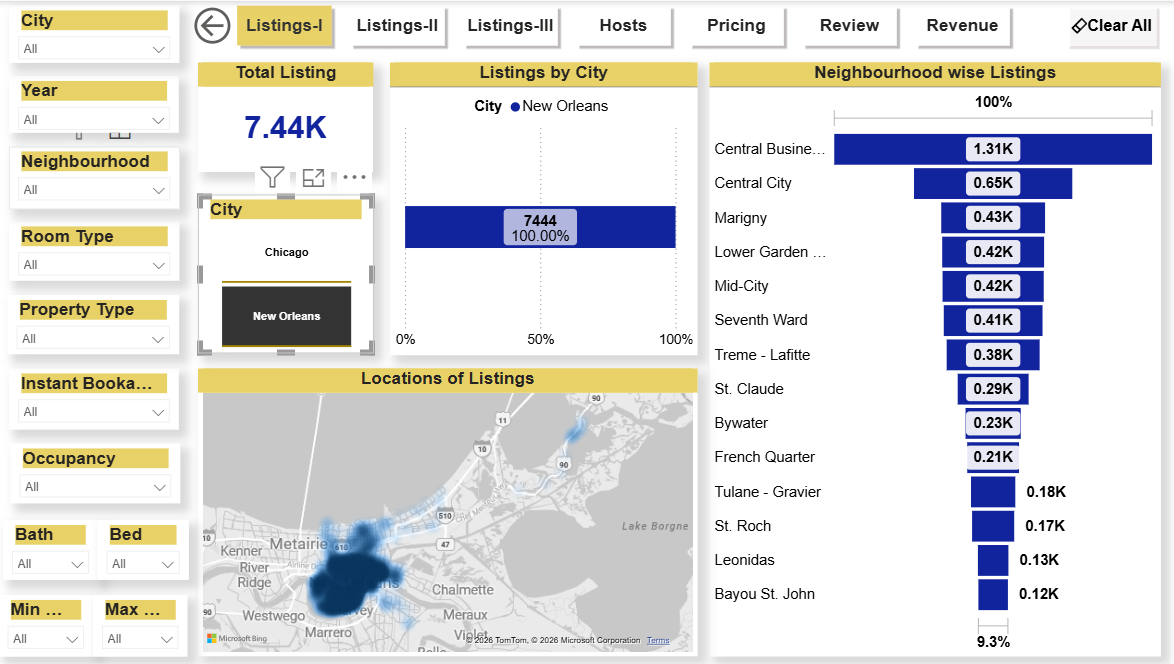

The page's visual inventory and layout, read from the dashboard file:
{"tool":"powerbi","page":{"name":"Listings-I","canvas":[1280,720],"ordinal":0},"visuals":[{"type":"slicer","fields":{"Values":["airbnb_listings.room_type1"]},"box":[16.5,238.8,184,63.8],"z":0},{"type":"slicer","fields":{"Values":["airbnb_listings.neighbourhood_cleansed1"]},"box":[16,157.4,184,67],"z":1000},{"type":"slicer","fields":{"Values":["airbnb_listings.instant_bookable1"]},"box":[16,396.3,183.5,66],"z":2000},{"type":"hundredPercentStackedBarChart","title":"Listings by City","fields":{"Series":["airbnb_listings.City"],"Y":["Count(airbnb_listings.listing_url)"]},"box":[427.5,66.4,331.9,315.7],"z":3000},{"type":"actionButton","box":[210.1,0,50.5,53.2],"z":4000},{"type":"actionButton","box":[1152.9,0,106.9,53.4],"z":5000},{"type":"pageNavigator","box":[256.9,0,850,53.2],"z":6000},{"type":"cardVisual","title":"Total Listing","fields":{"Data":["Count(airbnb_listings.listing_url)"]},"box":[220.2,66.4,189.4,118.2],"z":7000},{"type":"slicer","fields":{"Values":["airbnb_listings.property_type1"]},"box":[14.9,318.1,185.1,63.8],"z":8000},{"type":"slicer","fields":{"Values":["airbnb_listings.accommodates1"]},"box":[17,477.7,183.5,64.4],"z":9000},{"type":"slicer","fields":{"Values":["airbnb_listings.City"]},"box":[220.2,208.9,189.4,171.6],"z":10000},{"type":"funnel","title":"Neighbourhood wise Listings","fields":{"Category":["airbnb_listings.neighbourhood_cleansed"],"Y":["Count(airbnb_listings.listing_url)"]},"box":[772.4,66.4,487.4,641.2],"z":11000},{"type":"map","title":"Locations of Listings","fields":{"Size":["Sum(airbnb_listings.estimated_revenue_l365d)"],"Y":["airbnb_listings.latitude"],"X":["airbnb_listings.longitude"]},"box":[220.2,396.7,539.2,310.9],"z":12000},{"type":"slicer","fields":{"Values":["airbnb_listings.bathrooms"]},"box":[9,560.6,102.7,64.9],"z":13000},{"type":"slicer","fields":{"Values":["airbnb_listings.bedrooms"]},"box":[111.7,560.6,98.4,64.9],"z":14000},{"type":"slicer","fields":{"Values":["airbnb_listings.minimum_nights"]},"box":[5.3,640.4,102.1,66.5],"z":15000},{"type":"slicer","fields":{"Values":["airbnb_listings.maximum_nights"]},"box":[107.4,640.4,102.1,66.5],"z":16000},{"type":"slicer","fields":{"Values":["airbnb_listings.host_year"]},"box":[16.5,81.4,183.5,61.2],"z":17000},{"type":"slicer","fields":{"Values":["airbnb_listings.City"]},"box":[16.5,4.8,184,61.7],"z":18000}]}

Visuals, with their boxes in screenshot pixels (x1, y1, x2, y2), scaled from the page's 1280x720 canvas onto the 1174x664 screenshot:
slicer - airbnb_listings.room_type1: BBox(15, 220, 184, 279)
slicer - airbnb_listings.neighbourhood_cleansed1: BBox(15, 145, 183, 207)
slicer - airbnb_listings.instant_bookable1: BBox(15, 365, 183, 426)
"Listings by City" hundredPercentStackedBarChart: BBox(392, 61, 697, 352)
actionButton: BBox(193, 0, 239, 49)
actionButton: BBox(1057, 0, 1155, 49)
pageNavigator: BBox(236, 0, 1015, 49)
"Total Listing" cardVisual: BBox(202, 61, 376, 170)
slicer - airbnb_listings.property_type1: BBox(14, 293, 183, 352)
slicer - airbnb_listings.accommodates1: BBox(16, 441, 184, 500)
slicer - airbnb_listings.City: BBox(202, 193, 376, 351)
"Neighbourhood wise Listings" funnel: BBox(708, 61, 1155, 653)
"Locations of Listings" map: BBox(202, 366, 697, 653)
slicer - airbnb_listings.bathrooms: BBox(8, 517, 102, 577)
slicer - airbnb_listings.bedrooms: BBox(102, 517, 193, 577)
slicer - airbnb_listings.minimum_nights: BBox(5, 591, 99, 652)
slicer - airbnb_listings.maximum_nights: BBox(99, 591, 192, 652)
slicer - airbnb_listings.host_year: BBox(15, 75, 183, 132)
slicer - airbnb_listings.City: BBox(15, 4, 184, 61)
